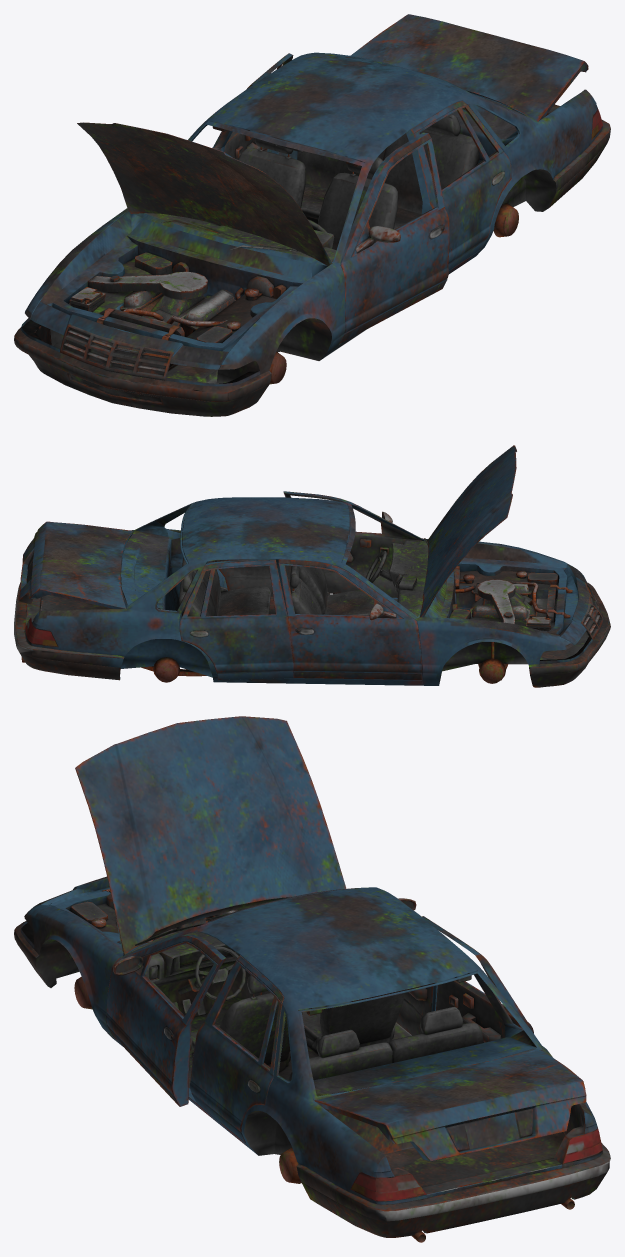
3 renders of one model, top to bottom at view 1: azimuth 30°, elevation 25°; view 2: azimuth 150°, elevation 25°; view 3: azimuth 270°, elevation 25°, orthographic. The views are drawn at different scales.
Visible parts, largest first — view 1: Bottom_0, Hood_3, Trunkdoor_4, Door_FR_inner.001_13, Seats_9, Bumper_front_inner_12, Engine_6, Door_RR.001_14, Dashboard_7, Bumper_rear_1, SUSPENSION_5, Door_RR_11; view 2: Bottom_0, Door_FR_inner_10, Door_RR_11, Trunkdoor_4, Hood_3, Seats_9, Engine_6, Door_FR_inner.001_13, Bumper_rear_1, Dashboard_7, Bumper_front_inner_12, SUSPENSION_5 (+2 smaller); view 3: Bottom_0, Hood_3, Trunkdoor_4, Seats_9, Bumper_rear_1, Door_FR_inner.001_13, Door_RR.001_14, Door_RR_11, Dashboard_7, Stoplights_glass_2, Door_FR_inner_10, SUSPENSION_5 (+2 smaller).
Boxes of the visible parts, <box> form: Bottom_0: <box>21,52,602,386</box>; Hood_3: <box>77,122,332,266</box>; Trunkdoor_4: <box>350,14,588,121</box>; Door_FR_inner.001_13: <box>339,132,449,343</box>; Seats_9: <box>238,114,479,250</box>; Bumper_front_inner_12: <box>14,320,271,416</box>; Engine_6: <box>69,252,286,342</box>; Door_RR.001_14: <box>410,101,511,270</box>; Dashboard_7: <box>144,213,336,261</box>; Bumper_rear_1: <box>549,104,610,207</box>; SUSPENSION_5: <box>168,203,518,384</box>; Door_RR_11: <box>224,53,293,159</box>; Bottom_0: <box>25,497,603,685</box>; Door_FR_inner_10: <box>278,559,422,679</box>; Door_RR_11: <box>179,559,293,680</box>; Trunkdoor_4: <box>18,521,132,608</box>; Hood_3: <box>420,445,516,617</box>; Seats_9: <box>179,557,374,616</box>; Engine_6: <box>449,566,557,631</box>; Door_FR_inner.001_13: <box>283,491,423,597</box>; Bumper_rear_1: <box>14,583,124,680</box>; Dashboard_7: <box>380,540,428,616</box>; Bumper_front_inner_12: <box>528,582,610,687</box>; SUSPENSION_5: <box>21,598,508,683</box>; Bottom_0: <box>20,876,602,1233</box>; Hood_3: <box>75,716,346,954</box>; Trunkdoor_4: <box>314,1050,586,1161</box>; Seats_9: <box>190,975,483,1080</box>; Bumper_rear_1: <box>296,1143,610,1237</box>; Door_FR_inner.001_13: <box>106,935,226,1106</box>; Door_RR.001_14: <box>190,955,285,1142</box>; Door_RR_11: <box>421,916,533,1042</box>; Dashboard_7: <box>129,926,262,1015</box>; Stoplights_glass_2: <box>350,1126,602,1201</box>; Door_FR_inner_10: <box>396,898,433,1035</box>; SUSPENSION_5: <box>74,976,574,1242</box>.
Bounding box in the file's own units: 50.7 × 17.74 × 37.08.
Materials: 1 (1 with a texture image).
